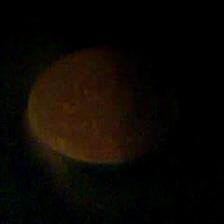fertile: (26, 45, 174, 164)
